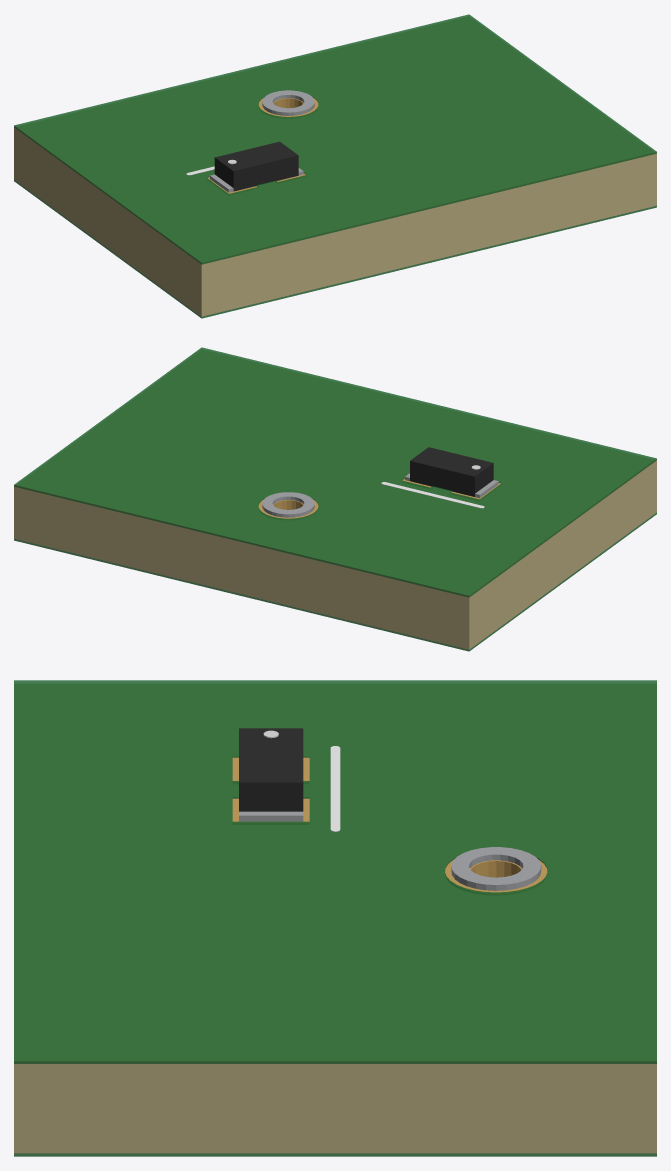
File: paste-layer.glb
3 renders of one model, top to bottom at view 1: azimuth 30°, elevation 25°; view 2: azimuth 150°, elevation 25°; view 3: azimuth 270°, elevation 25°, orthographic. The views are drawn at different scales.
Parts seen in each view (by area): view 1: layer/TOP_MASK, layer/@core, R1, layer/@soldermask-bottom, layer/TOP_PASTE; view 2: layer/TOP_MASK, layer/@core, R1, layer/@soldermask-bottom, layer/TOP_PASTE; view 3: layer/TOP_MASK, layer/@core, R1, layer/TOP_PASTE, layer/@soldermask-bottom, layer/TOP, layer/TOP_SILK, layer/DRILL.
Part boxes in pixels (left/top/right/bottom): layer/TOP_MASK: left=14, top=14, right=656, bottom=264; layer/@core: left=14, top=17, right=656, bottom=316; R1: left=214, top=141, right=298, bottom=191; layer/@soldermask-bottom: left=14, top=179, right=656, bottom=318; layer/TOP_PASTE: left=210, top=90, right=314, bottom=192; layer/TOP_MASK: left=14, top=347, right=656, bottom=597; layer/@core: left=14, top=351, right=656, bottom=649; R1: left=410, top=447, right=493, bottom=496; layer/@soldermask-bottom: left=14, top=512, right=656, bottom=651; layer/TOP_PASTE: left=262, top=473, right=498, bottom=517; layer/TOP_MASK: left=14, top=680, right=656, bottom=1063; layer/@core: left=14, top=684, right=656, bottom=1153; R1: left=239, top=728, right=303, bottom=811; layer/TOP_PASTE: left=239, top=811, right=541, bottom=890; layer/@soldermask-bottom: left=14, top=1153, right=656, bottom=1156; layer/TOP: left=232, top=757, right=547, bottom=894; layer/TOP_SILK: left=330, top=746, right=340, bottom=831; layer/DRILL: left=470, top=860, right=521, bottom=877.
Size of the model in its own units: 0.014 by 0.00284 by 0.01.
